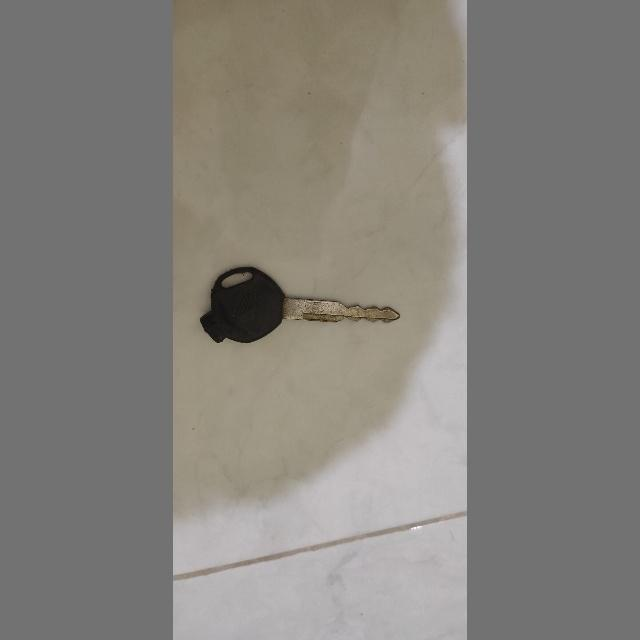Keys: (200, 264, 420, 360)
